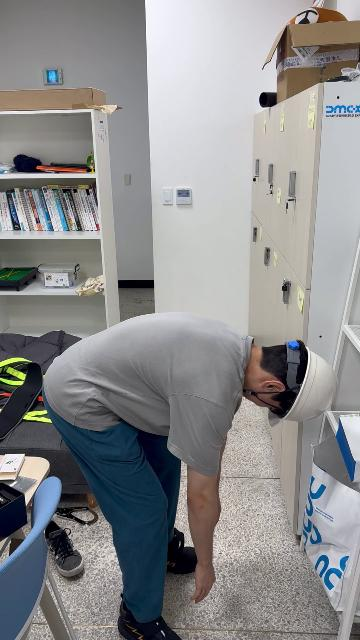helmet_worn: (261, 341, 338, 427)
shoe_not_worn: (43, 519, 85, 578)
shoe_worn: (118, 596, 185, 640), (166, 528, 197, 574)
vest_not_worn: (46, 311, 251, 465)
